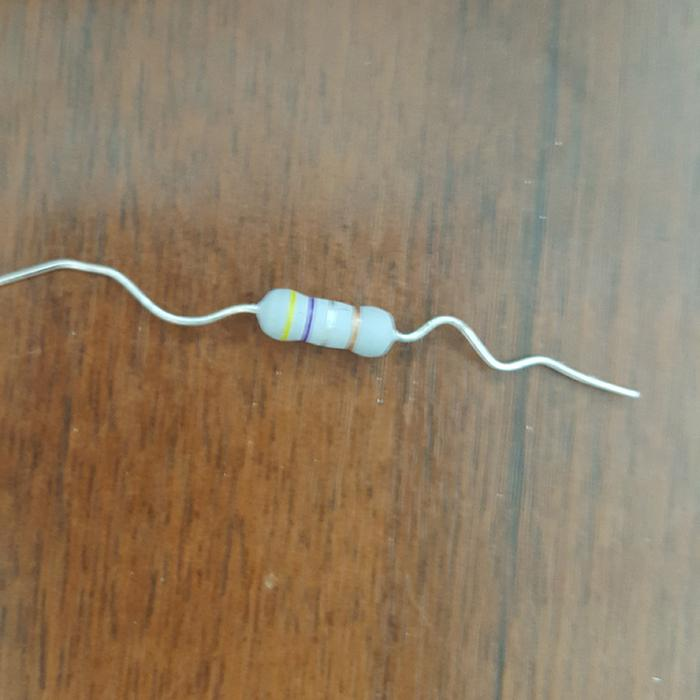resistor: (253, 287, 396, 356)
